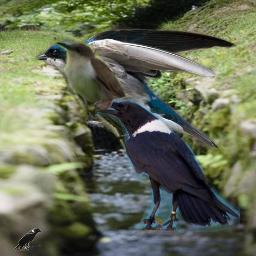Crow: (95, 99, 240, 232), (13, 227, 41, 251)
Cuckoo: (54, 38, 165, 183)
Swallow: (35, 26, 237, 151)
